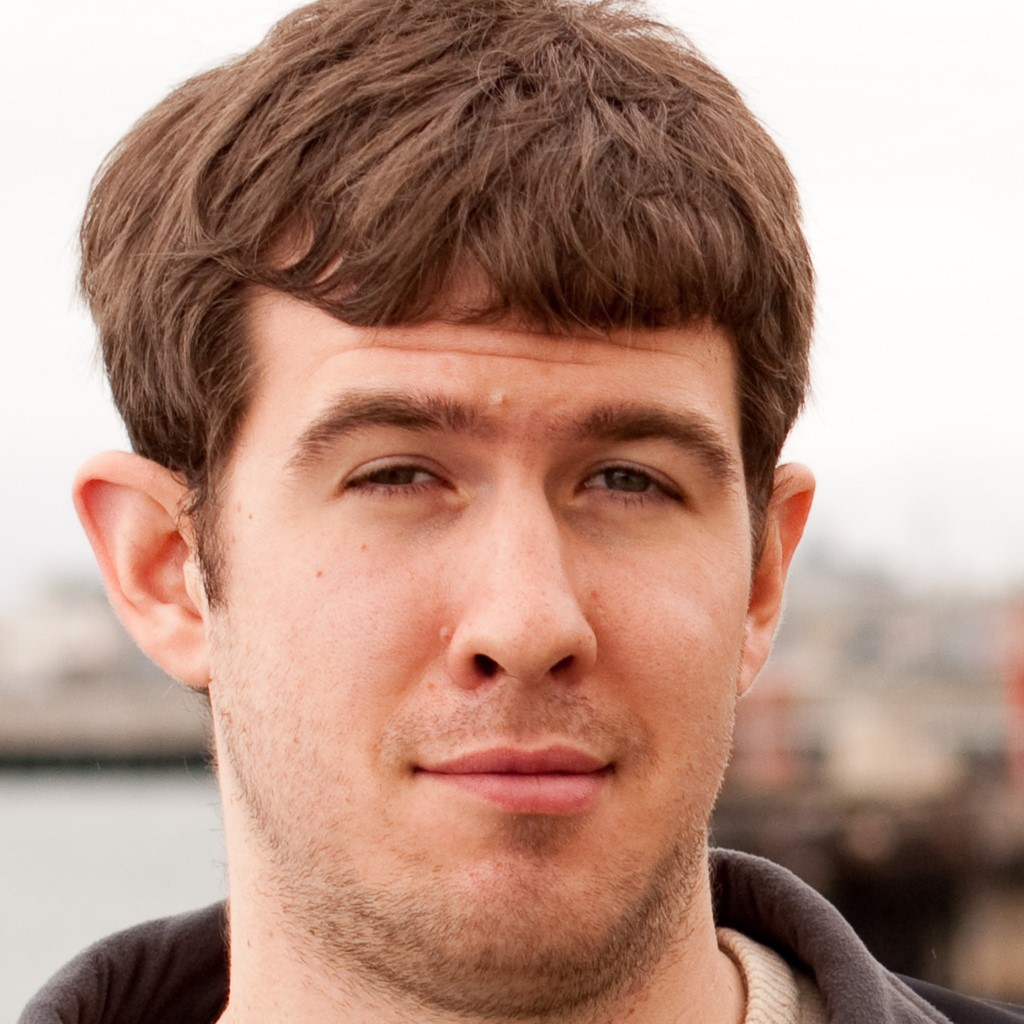sin_mascara: (157, 198, 770, 992)
